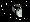person: (13, 5, 22, 17)
